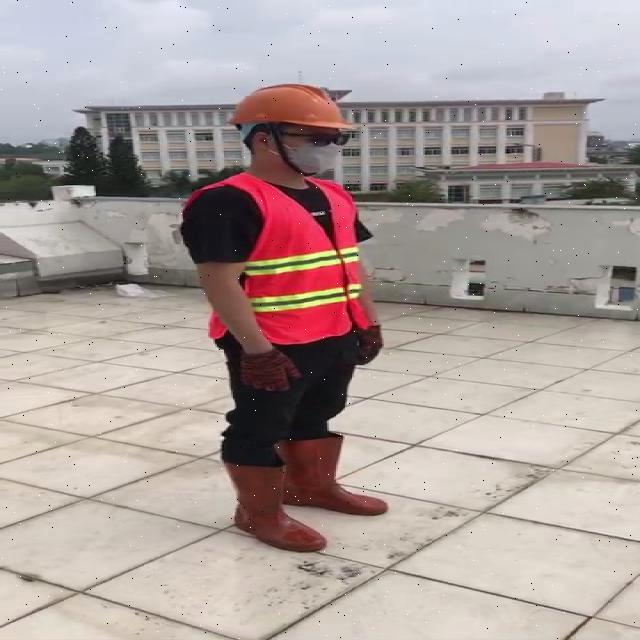Hard_hat: (221, 80, 356, 146)
Vest: (236, 171, 356, 339)
